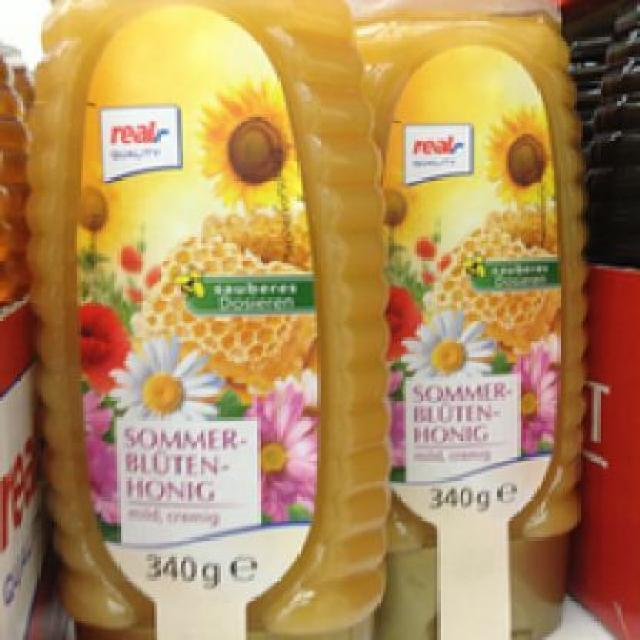Honey: (17, 0, 390, 637), (354, 0, 580, 637)
